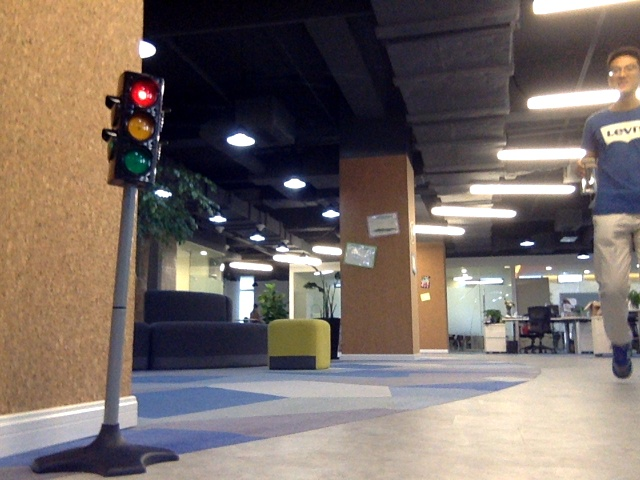red: (120, 80, 154, 179)
